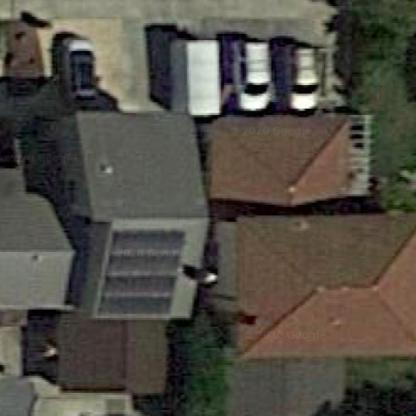car: (162, 27, 227, 130), (59, 29, 103, 110), (232, 32, 273, 117), (281, 41, 321, 122)
solar_panel: (96, 223, 185, 319)
